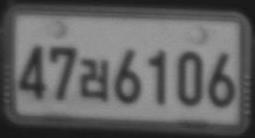0: (177, 51, 203, 104)
1: (146, 49, 174, 105)
4: (18, 44, 47, 99)
6: (113, 48, 141, 104), (207, 52, 235, 108)
7: (49, 47, 77, 101)
러: (80, 57, 109, 102)
